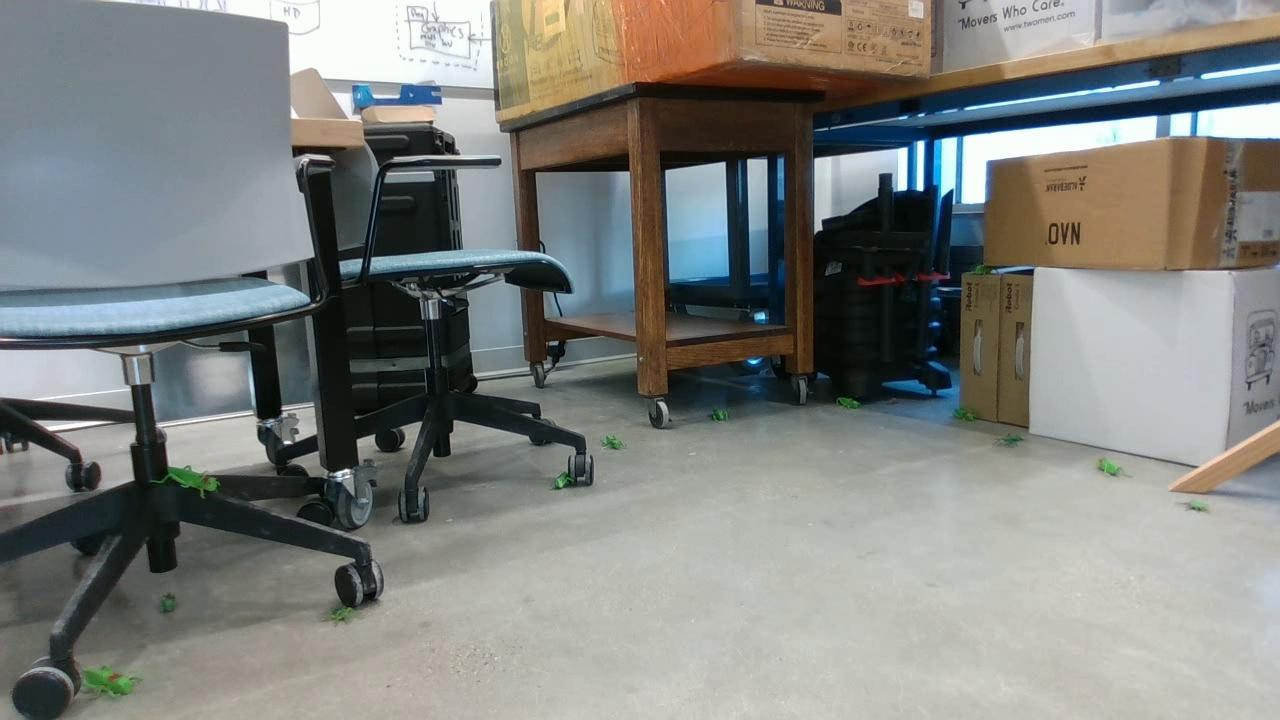grasshopper: (156, 466, 223, 501), (74, 667, 136, 700), (1090, 457, 1124, 482), (703, 403, 734, 424), (598, 434, 628, 453), (951, 405, 977, 425), (829, 395, 862, 410), (548, 470, 575, 488)
